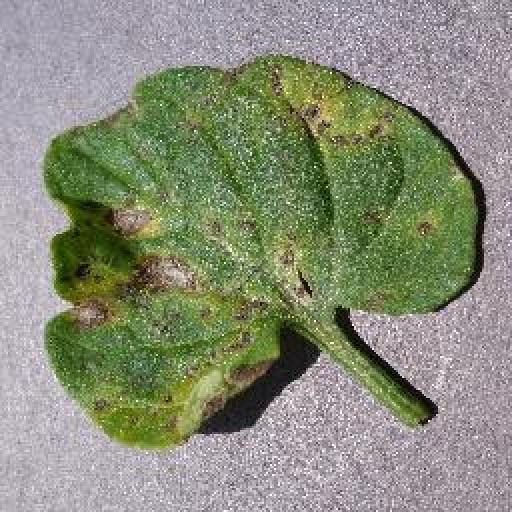Septoria: (48, 54, 487, 450)
